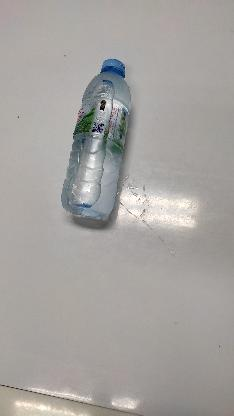Plastic Bottle: (60, 55, 136, 227)
